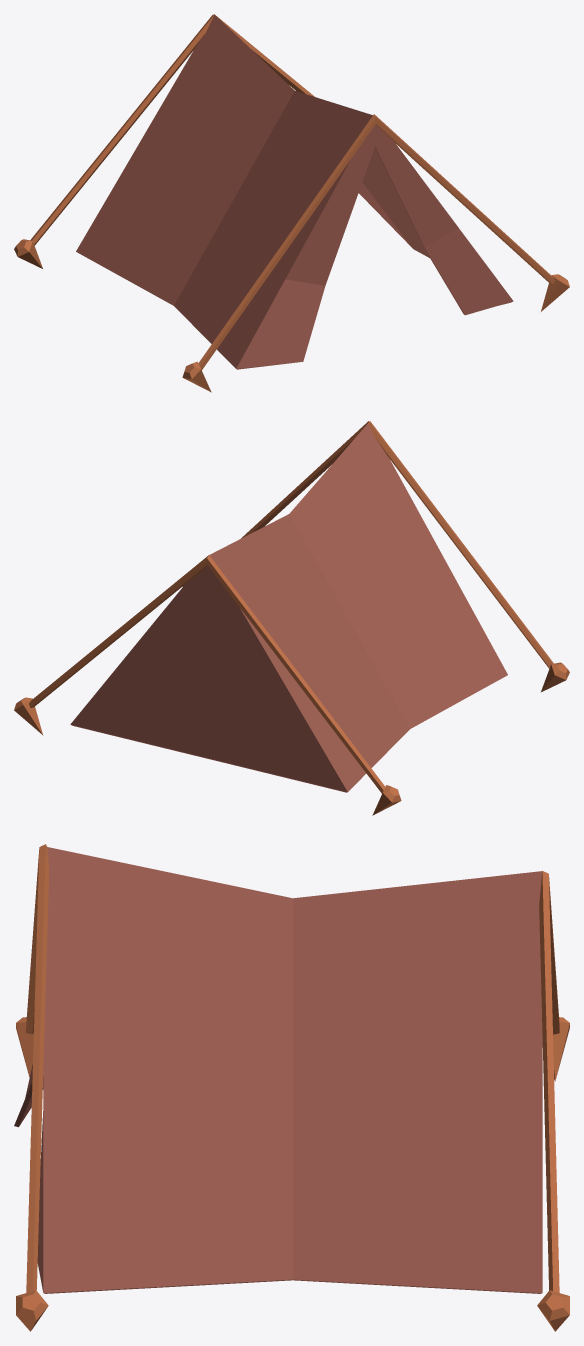
File: Tent.glb
3 views of the same model, one above another, from view 1: azimuth 30°, elevation 25°; view 2: azimuth 150°, elevation 25°; view 3: azimuth 270°, elevation 25° (orthographic). The views are drawn at different scales.
Parts seen in each view (by area): view 1: Tent_Cube.001; view 2: Tent_Cube.001; view 3: Tent_Cube.001.
Part boxes in pixels (x1=…): Tent_Cube.001: x1=14, y1=14, x2=569, y2=392; Tent_Cube.001: x1=14, y1=421, x2=569, y2=815; Tent_Cube.001: x1=14, y1=844, x2=569, y2=1331.
Bounding box in the file's own units: 2.21 × 1.29 × 1.78.
